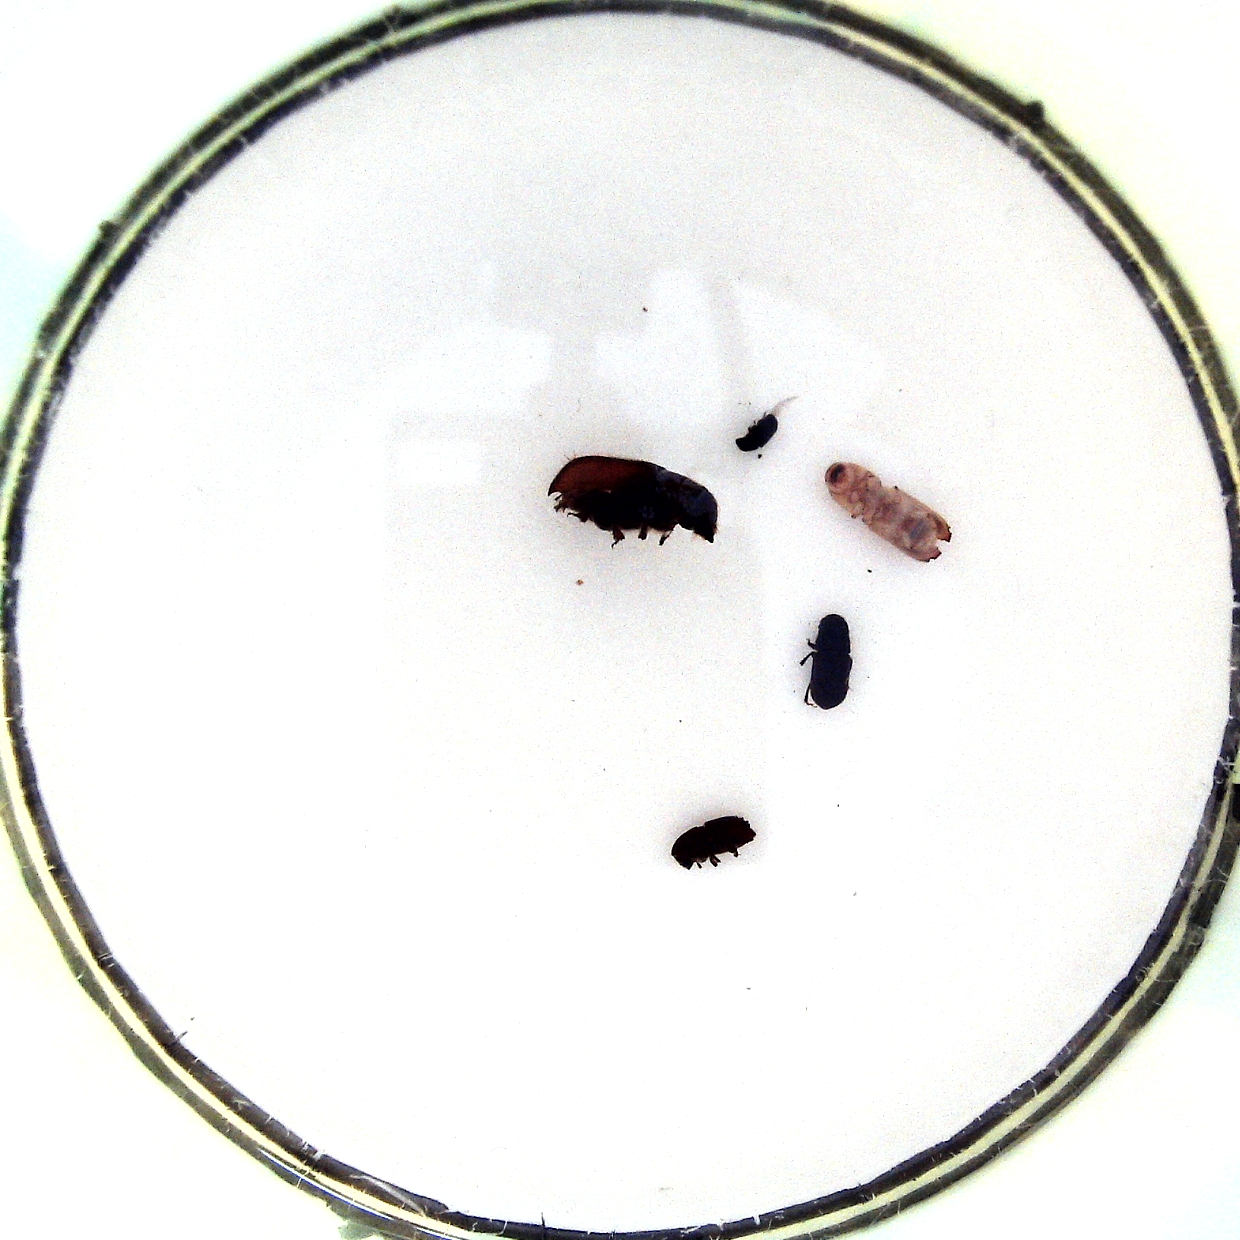Boerner: (824, 453, 955, 568)
Leconte: (538, 449, 722, 558)
Linnaeus: (671, 814, 761, 871)
armandi: (797, 600, 851, 717)
coleoptera: (730, 401, 791, 463)
